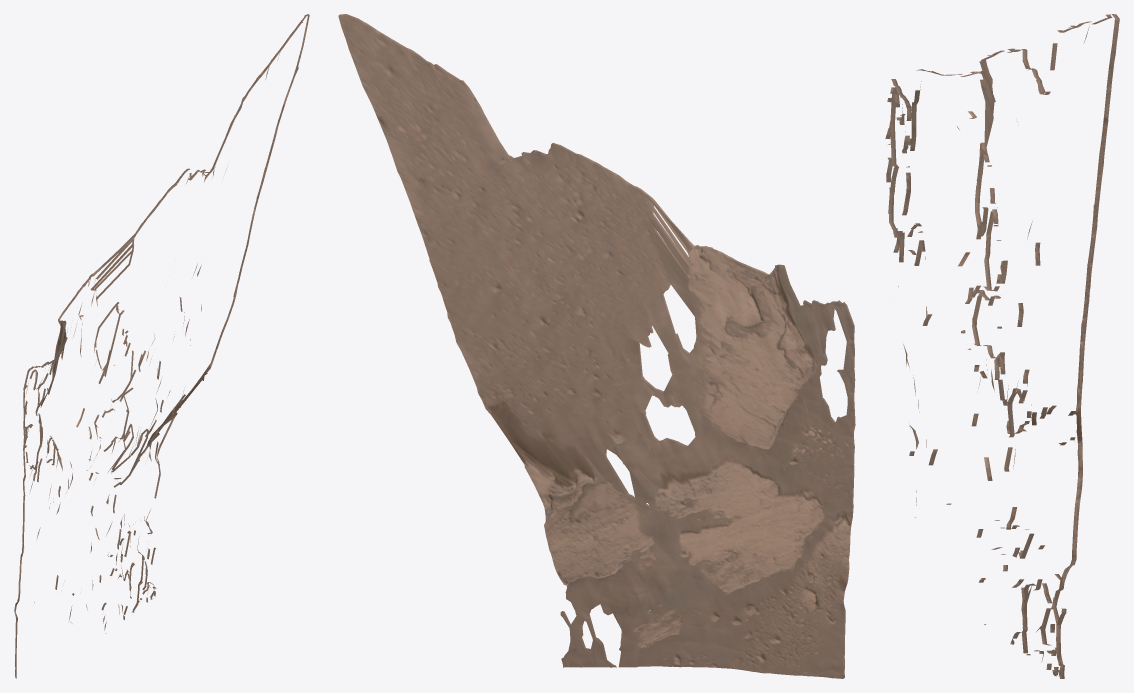
The picture shows the model from 3 angles, left to right: view 1: azimuth 30°, elevation 25°; view 2: azimuth 150°, elevation 25°; view 3: azimuth 270°, elevation 25°; orthographic projection. The views are drawn at different scales.
Size of the model in its own units: 2.09 by 2.91 by 0.7887.
Materials: 1 (1 with a texture image).
